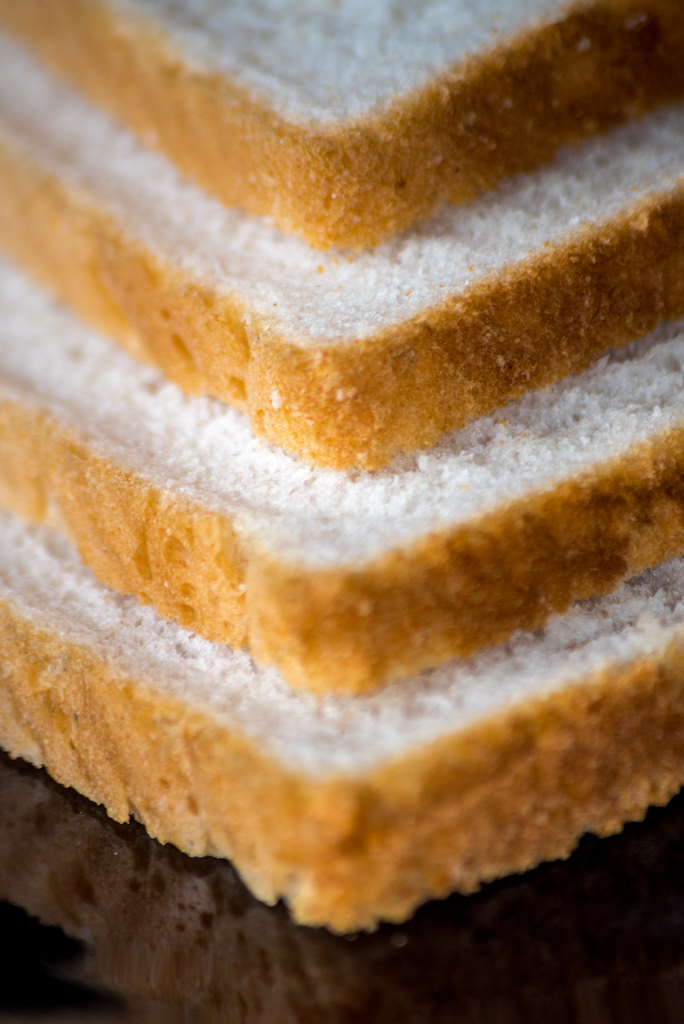slice of bread: (33, 16, 655, 873)
